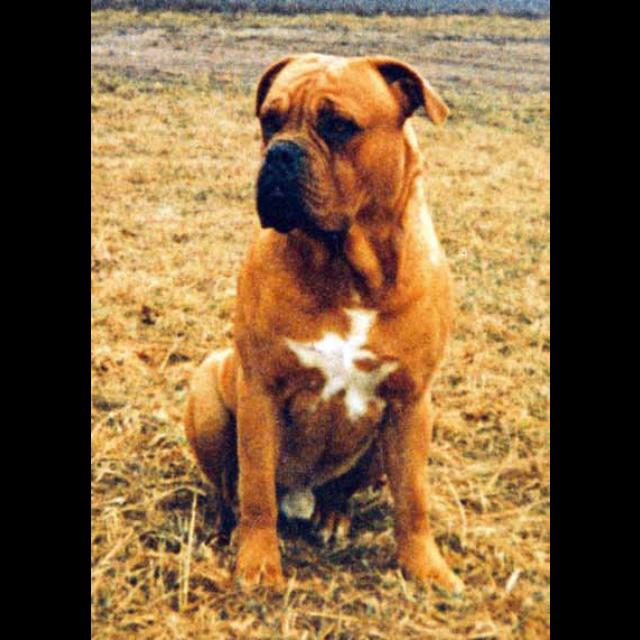dogue_de_bordeaux: (182, 52, 466, 598)
